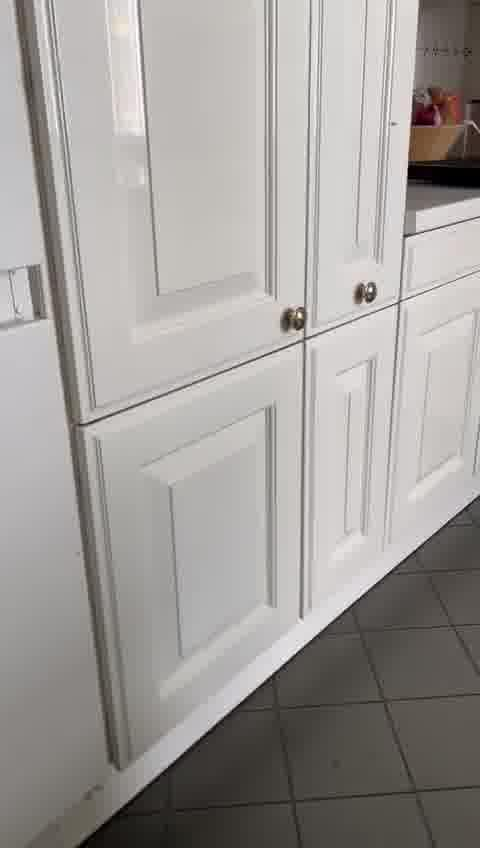cabinet_door: (39, 0, 314, 363), (313, 0, 406, 336)
handle: (347, 270, 382, 312), (277, 300, 311, 338)
